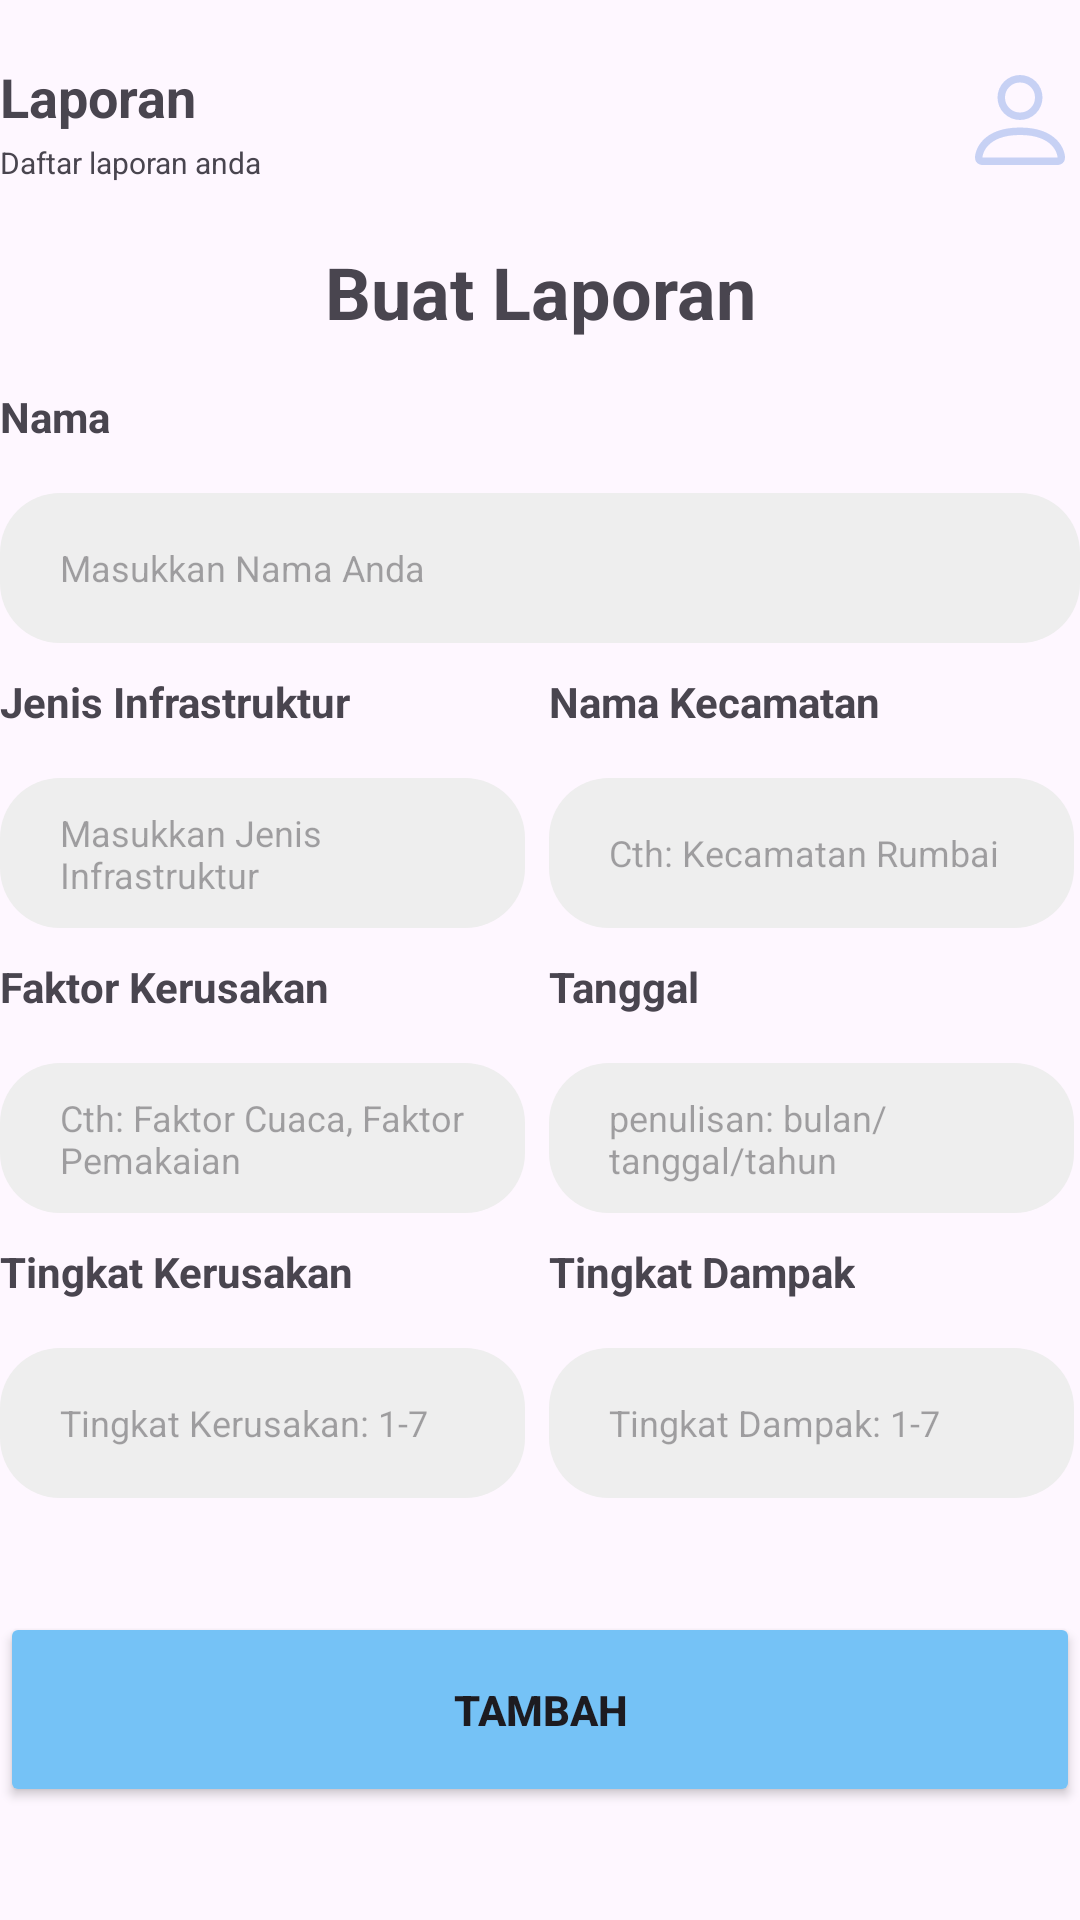

Named icons in this screenshot (1080*1920) and their bounding boxes, (x1, y1, x2, y2):
person: (975, 75, 1065, 165)
